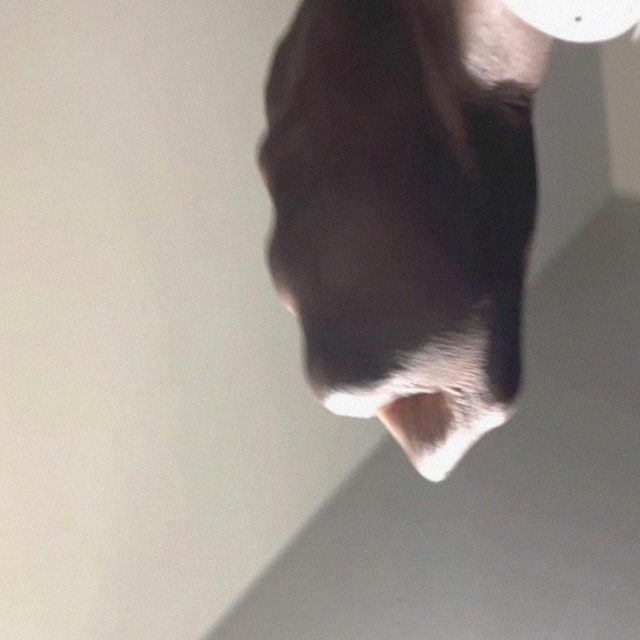Rock: (223, 0, 567, 508)
